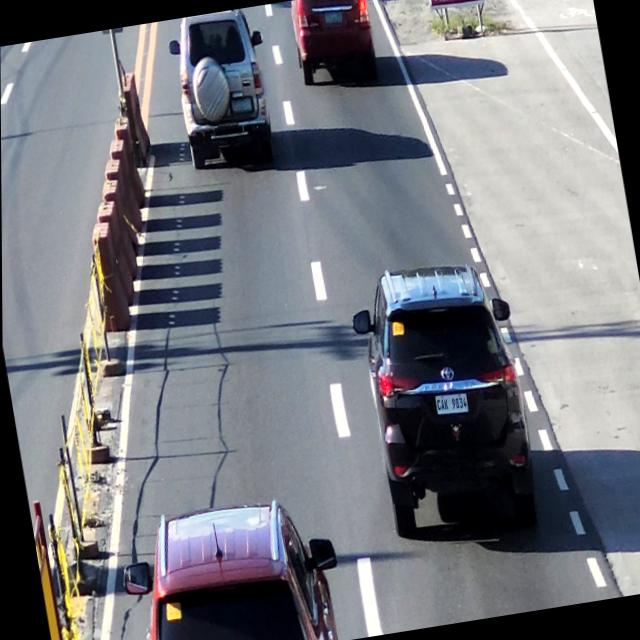Car: (347, 251, 549, 540), (111, 489, 339, 640), (167, 8, 280, 174), (287, 0, 384, 88)
License-Plate: (431, 386, 474, 422), (227, 90, 256, 118), (321, 8, 345, 30)
